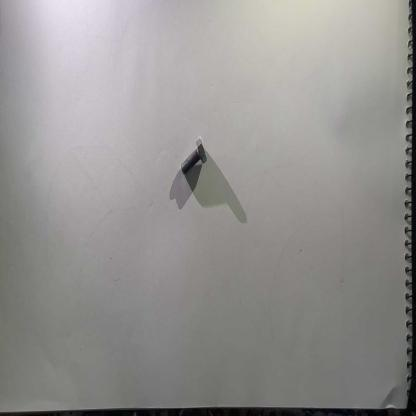Bolts: (178, 132, 209, 184)
